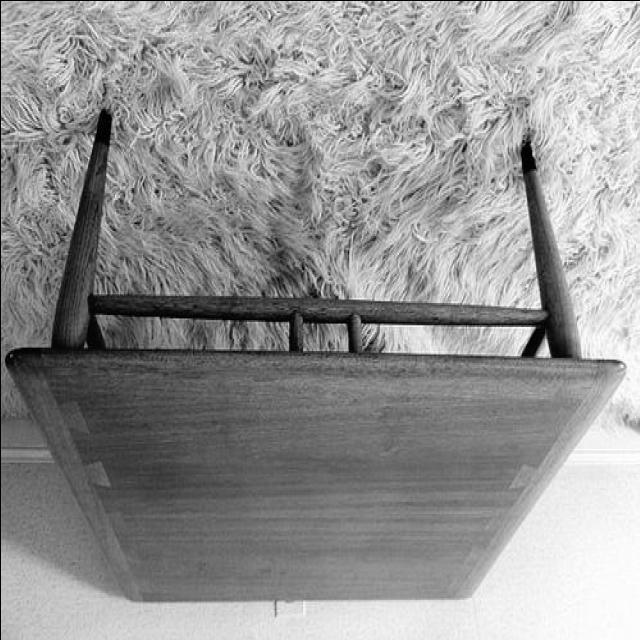table: (8, 113, 626, 608)
